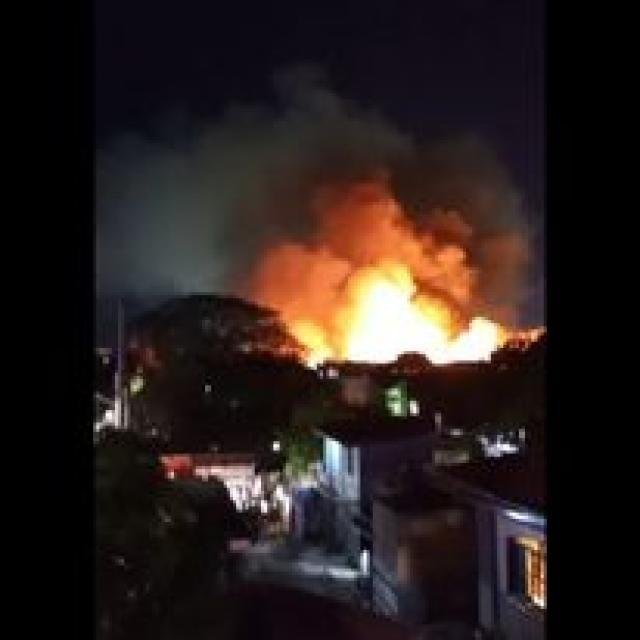Fire: (303, 310, 499, 360)
Smoke: (242, 111, 530, 324), (110, 143, 246, 294)
